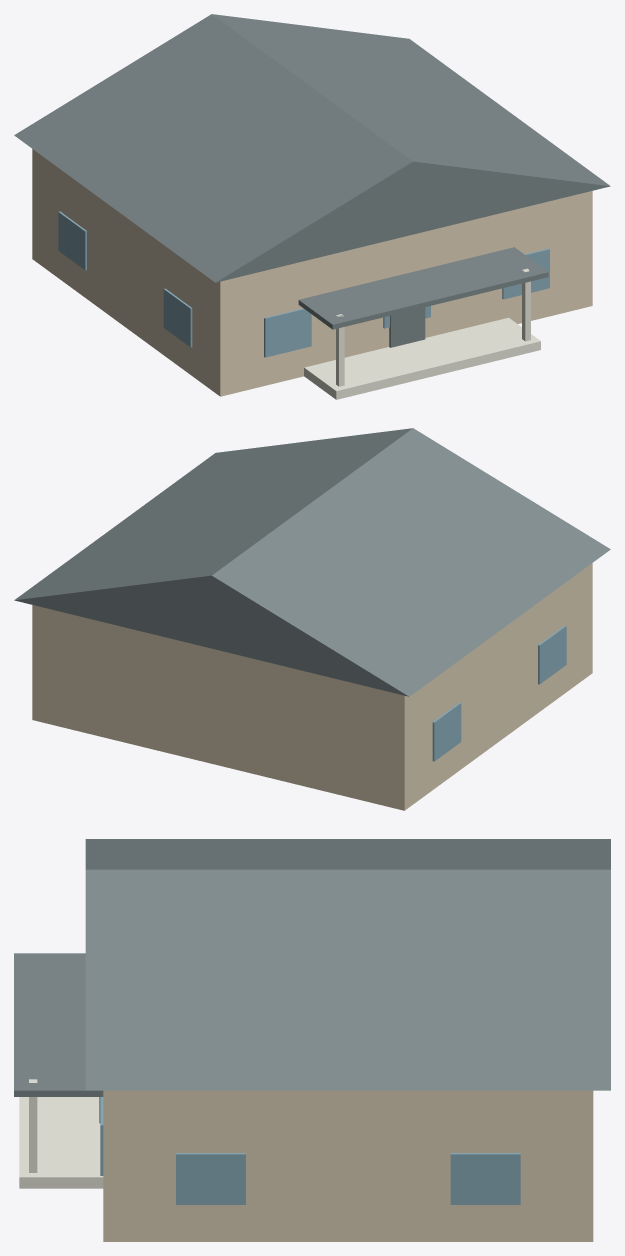
3 views of the same model, one above another, from view 1: azimuth 30°, elevation 25°; view 2: azimuth 150°, elevation 25°; view 3: azimuth 270°, elevation 25° (orthographic). The views are drawn at different scales.
Bounding box in the file's own units: 17 × 8 × 17.05.
